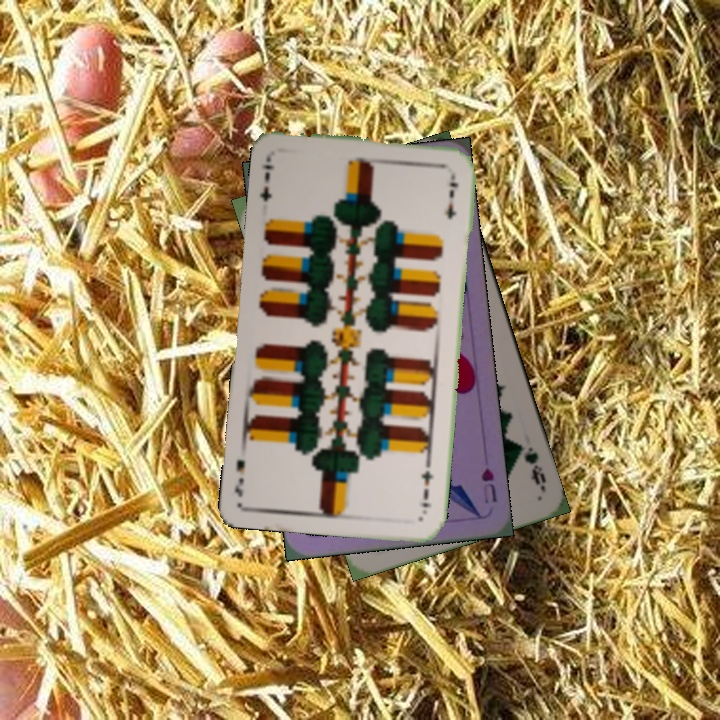E7: (416, 459, 435, 517), (256, 161, 277, 204)
G9: (520, 443, 549, 487)
HU: (477, 463, 500, 506)
